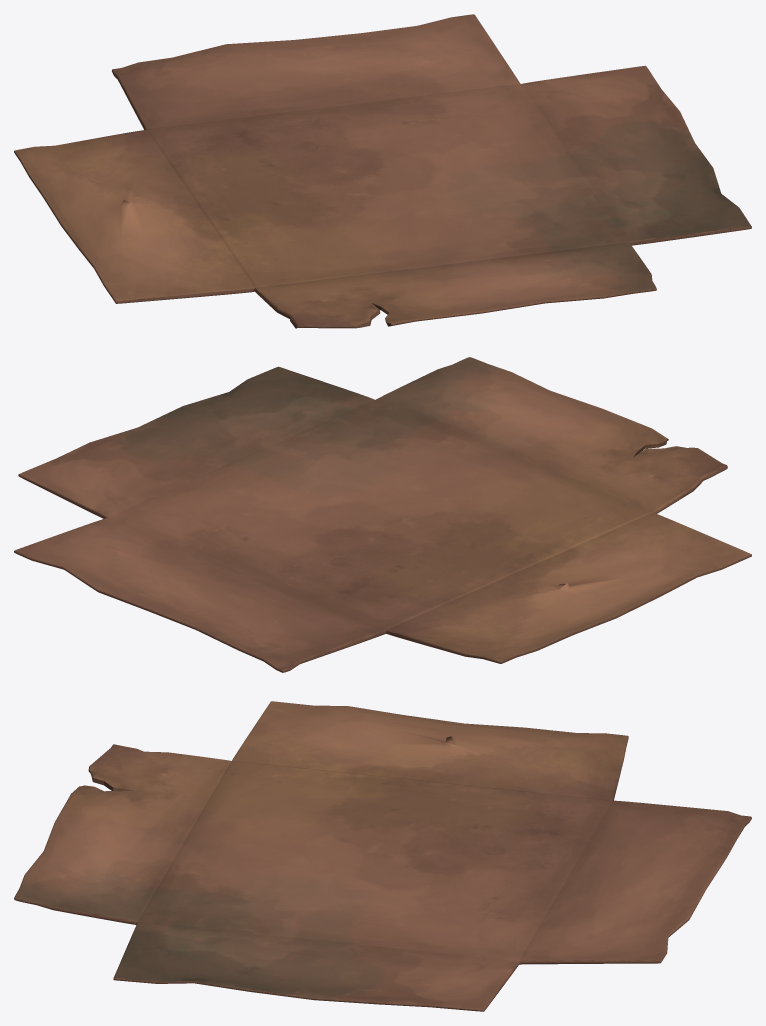
The model's file is worn_and_flattened_cardboard.glb.
The picture shows the model from 3 angles, top to bottom: view 1: azimuth 30°, elevation 25°; view 2: azimuth 150°, elevation 25°; view 3: azimuth 270°, elevation 25°; orthographic projection.
Parts seen in each view (by area): view 1: CardBoard; view 2: CardBoard; view 3: CardBoard.
Part boxes in pixels (left/top/right/bottom): CardBoard: left=14, top=14, right=751, bottom=328; CardBoard: left=14, top=357, right=751, bottom=672; CardBoard: left=14, top=701, right=751, bottom=1011.
Size of the model in its own units: 1.36 by 0.0446 by 1.36.
1 material, 1 textured.
